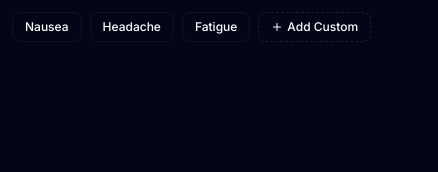
it: SideEffectChips › reveals an input when Add Custom is clicked
What coordinates should you click on to do the following:
click the button "Add Custom"
I would click on:
 (315, 27)
Its box is x1=258 y1=12 x2=371 y2=42.
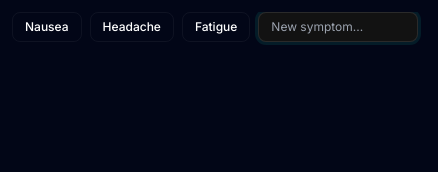
Expected: the field with placeholder "New symptom..." is shown, x1=258 y1=12 x2=418 y2=42
